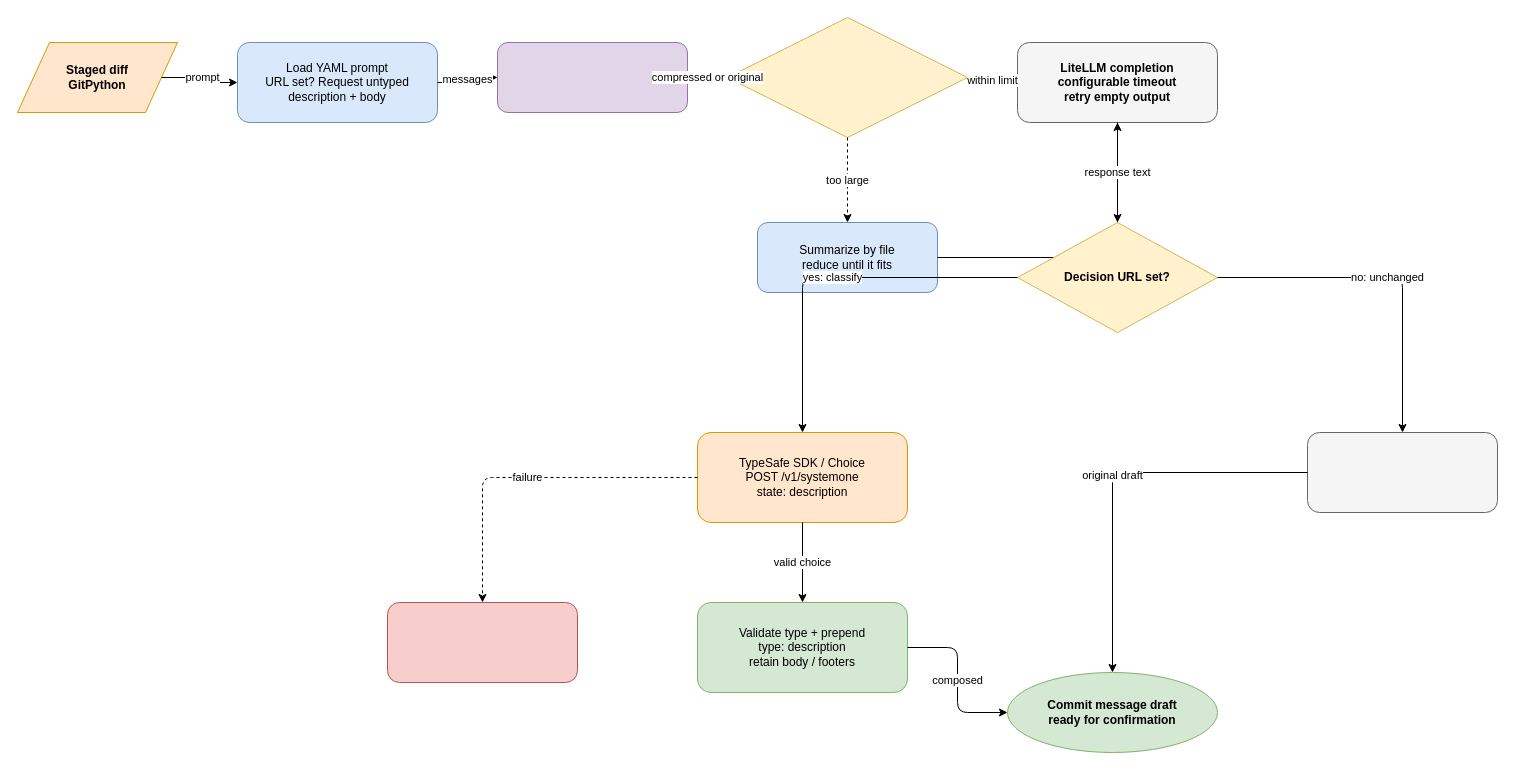
The diagram is 1515 pixels wide and 770 high, and some of its shapes have lost their labels. The box of each missing label's shape, as (x1, y1, x2, y2) in pixels:
Decision error abort without writing: (386, 602, 578, 682)
Headroom compression optional token savings: (496, 42, 688, 112)
No URL Keep LiteLLM's type: (1306, 432, 1498, 512)
Token budget check max input - response reserve: (726, 16, 968, 138)
